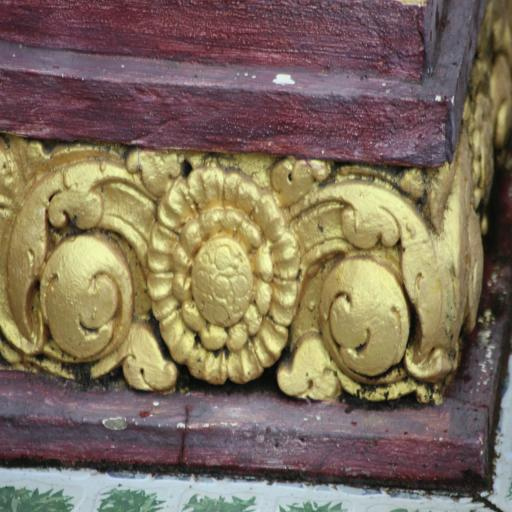hoa: (145, 154, 298, 391)
la: (289, 164, 454, 415), (0, 147, 148, 408)
